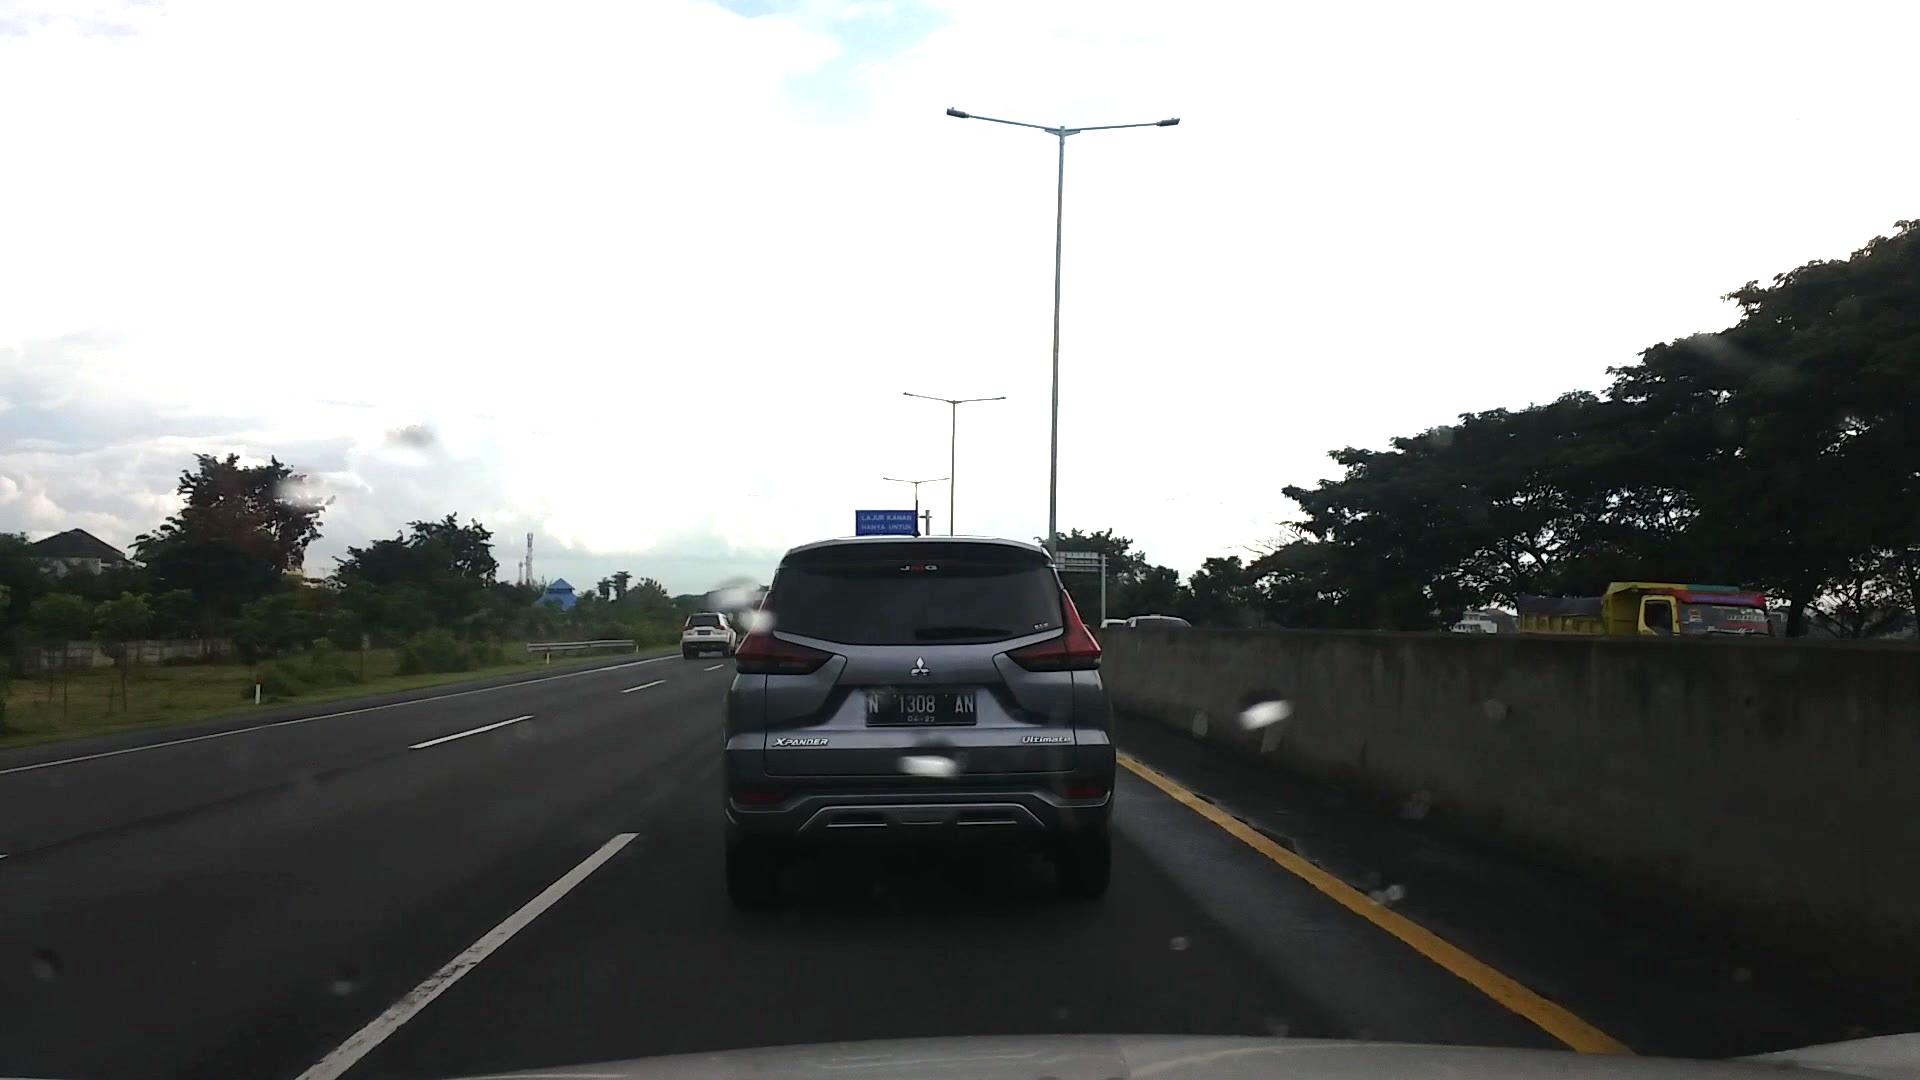plate_positive: (865, 690, 978, 727)
